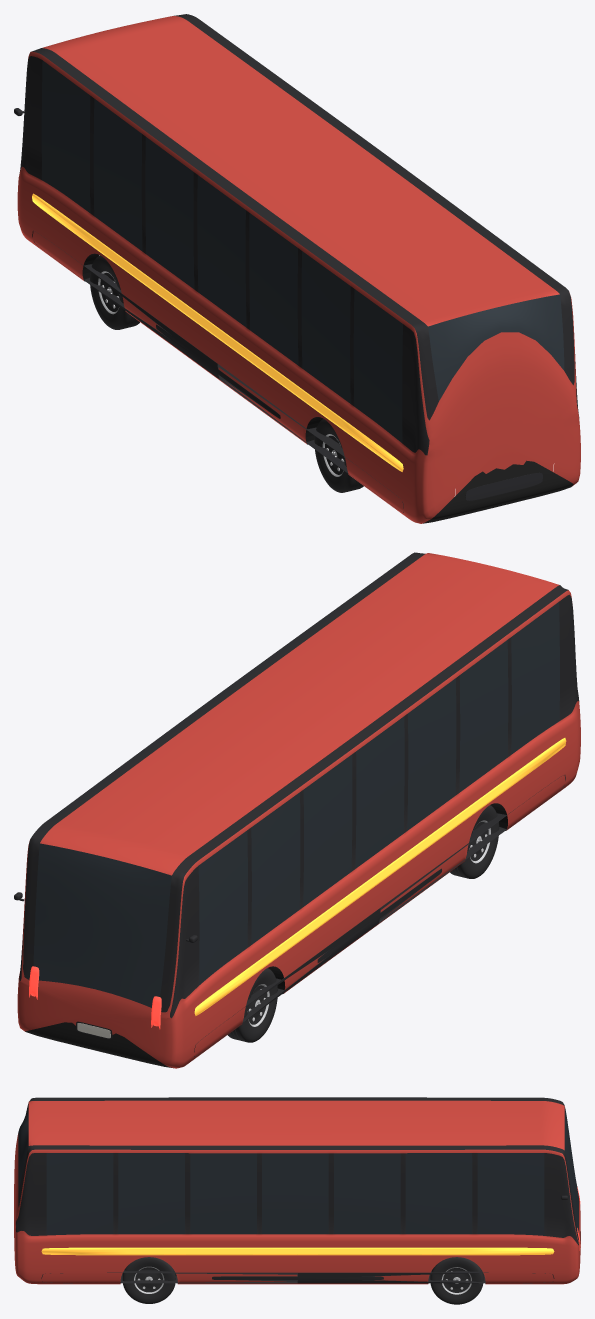
Rendered from TrafficBus.glb.
The picture shows the model from 3 angles, top to bottom: view 1: azimuth 30°, elevation 25°; view 2: azimuth 150°, elevation 25°; view 3: azimuth 270°, elevation 25°; orthographic projection. The views are drawn at different scales.
Visible parts, largest first — view 1: TrafficBus_Body, TrafficBus_Glass, TrafficBus_Lights_Indicator, TrafficBus_Wheel_FL, TrafficBus_Wheel_RL; view 2: TrafficBus_Body, TrafficBus_Glass, TrafficBus_Lights_Indicator, TrafficBus_Wheel_FL, TrafficBus_Wheel_RL; view 3: TrafficBus_Body, TrafficBus_Glass, TrafficBus_Lights_Indicator, TrafficBus_Wheel_FR, TrafficBus_Wheel_RR.
Boxes of the visible parts, x1,y1,x2,y2 form: TrafficBus_Body: (14, 14, 580, 523); TrafficBus_Glass: (41, 60, 564, 442); TrafficBus_Lights_Indicator: (32, 193, 403, 471); TrafficBus_Wheel_FL: (90, 255, 139, 329); TrafficBus_Wheel_RL: (314, 419, 363, 492); TrafficBus_Body: (14, 552, 580, 1068); TrafficBus_Glass: (33, 602, 559, 1007); TrafficBus_Lights_Indicator: (194, 738, 566, 1015); TrafficBus_Wheel_FL: (228, 968, 277, 1042); TrafficBus_Wheel_RL: (450, 805, 499, 878); TrafficBus_Body: (14, 1097, 580, 1284); TrafficBus_Glass: (18, 1103, 578, 1235); TrafficBus_Lights_Indicator: (41, 1247, 554, 1255); TrafficBus_Wheel_FR: (430, 1257, 483, 1304); TrafficBus_Wheel_RR: (122, 1257, 175, 1303).
Size of the model in its own units: 2.8 by 3.4 by 11.06.
